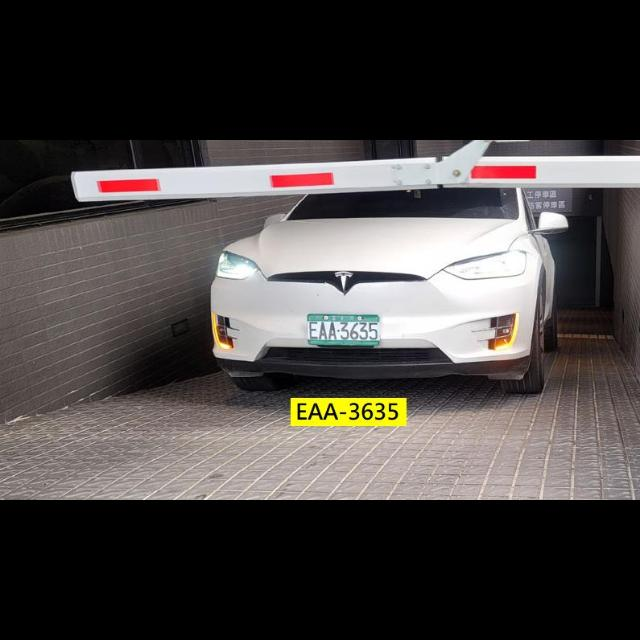plate: (306, 314, 380, 346)
